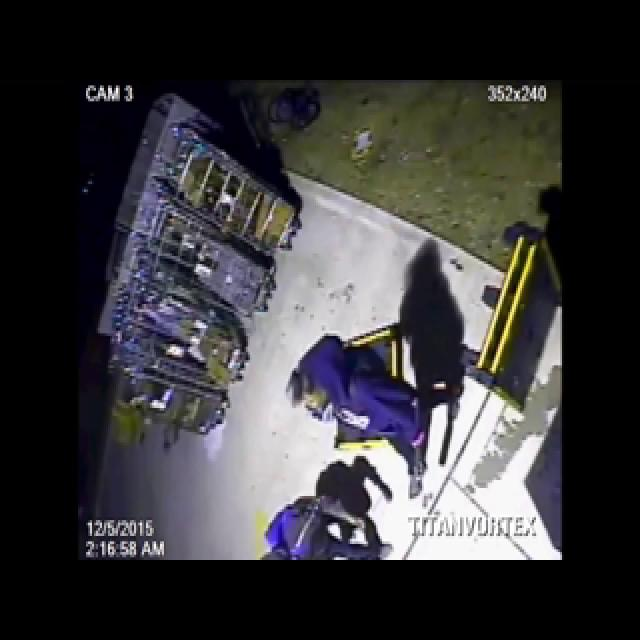vandalism: (286, 296, 471, 573)
